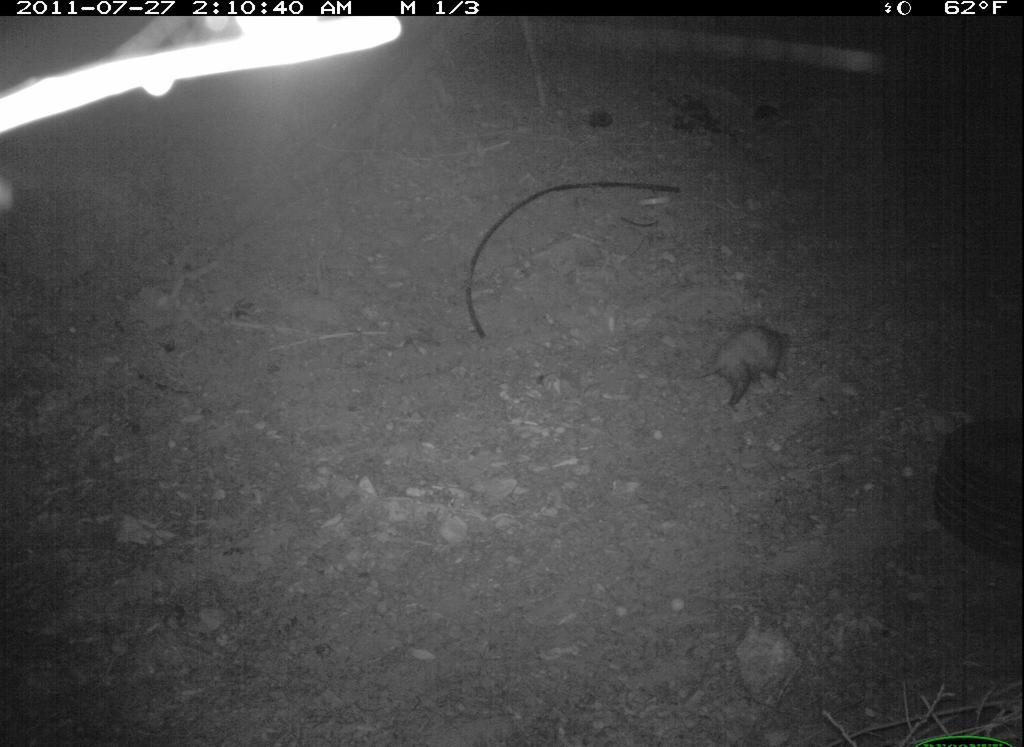opossum: (694, 304, 804, 415)
